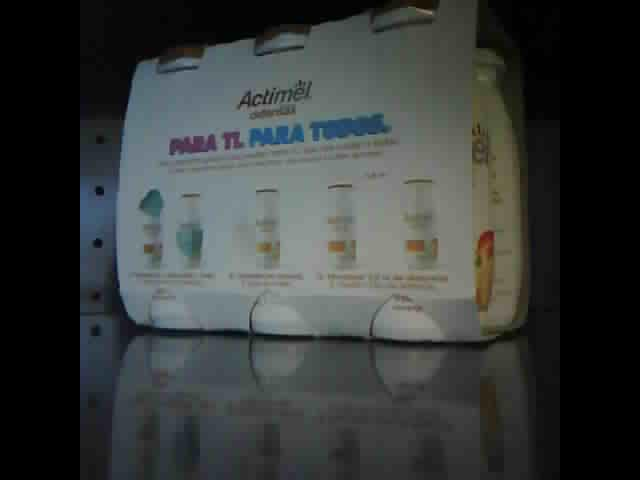actimel: (118, 2, 535, 351)
